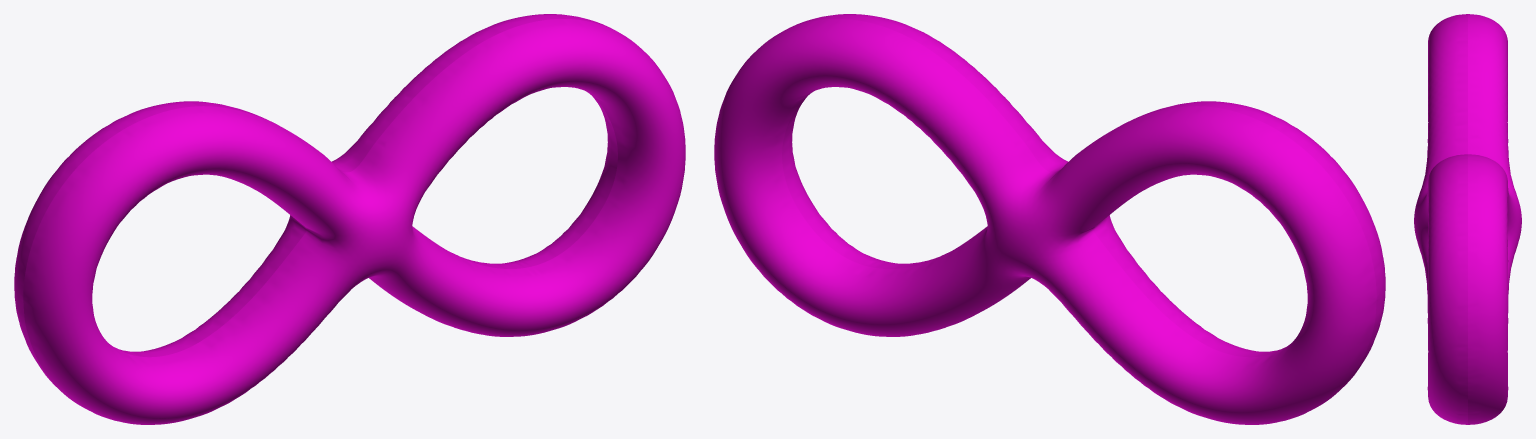
File: infinity_11.glb
3 renders of one model, left to right at view 1: azimuth 30°, elevation 25°; view 2: azimuth 150°, elevation 25°; view 3: azimuth 270°, elevation 25°, orthographic. The views are drawn at different scales.
Visible parts, largest first — view 1: infinity; view 2: infinity; view 3: infinity.
Boxes of the visible parts, x1,y1,x2,y2 form: infinity: [14, 14, 685, 424]; infinity: [714, 14, 1385, 424]; infinity: [1414, 14, 1521, 424].
Size of the model in its own units: 1.79 by 0.8003 by 0.3193.
